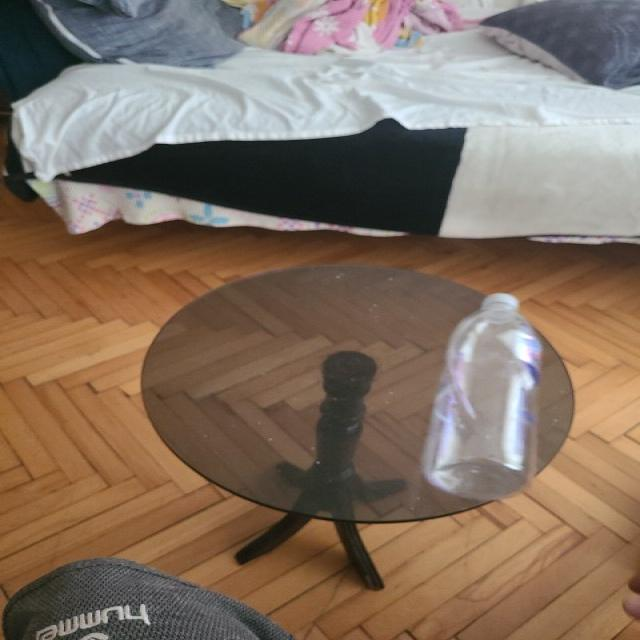plastic_bottle: (422, 293, 543, 501)
